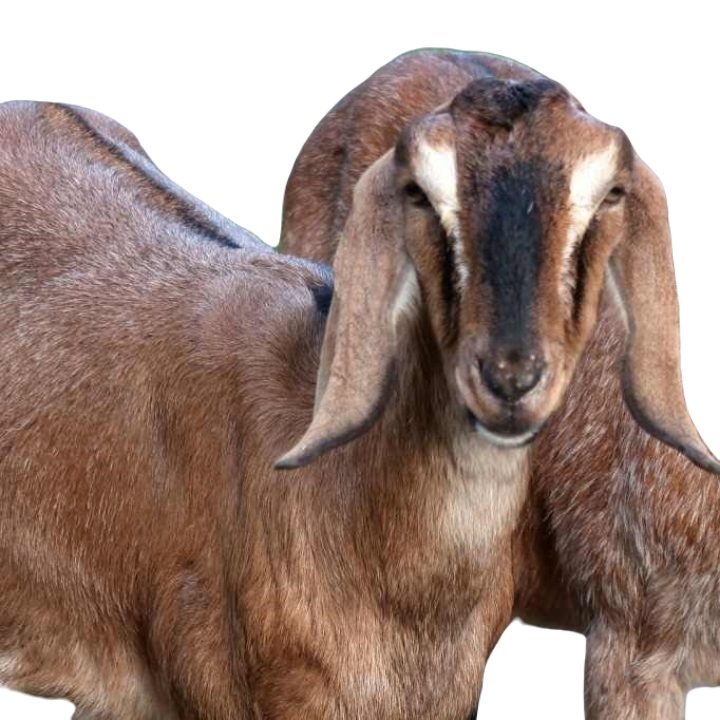Goat: (5, 76, 717, 716)
